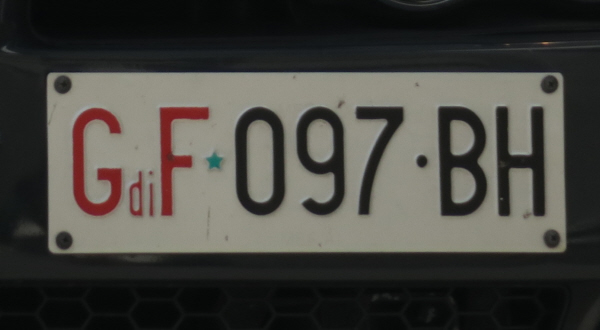license_plate: (46, 72, 568, 253)
